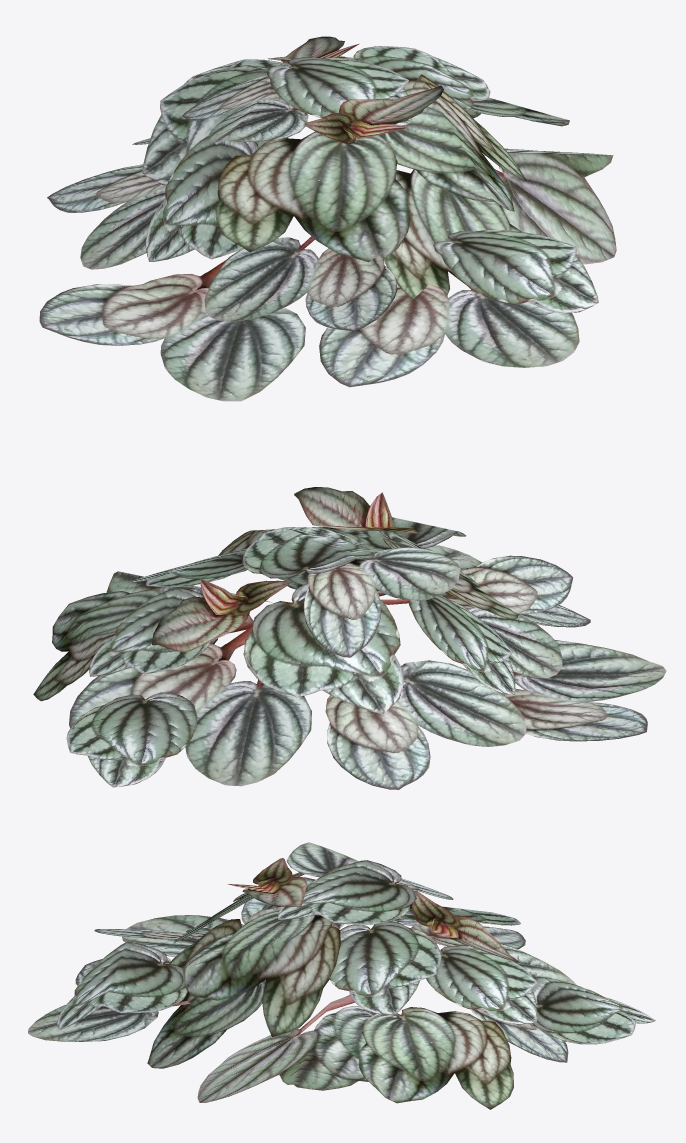
File: Peperomia2.fbx
The picture shows the model from 3 angles, top to bottom: view 1: azimuth 30°, elevation 25°; view 2: azimuth 150°, elevation 25°; view 3: azimuth 270°, elevation 25°; orthographic projection. The views are drawn at different scales.
Visible parts, largest first — view 1: Peperomia2; view 2: Peperomia2; view 3: Peperomia2.
Boxes of the visible parts, <box> form: Peperomia2: <box>39,36,616,401</box>; Peperomia2: <box>33,487,666,789</box>; Peperomia2: <box>28,842,655,1109</box>.
Size of the model in its own units: 76.13 by 23.03 by 78.59.
